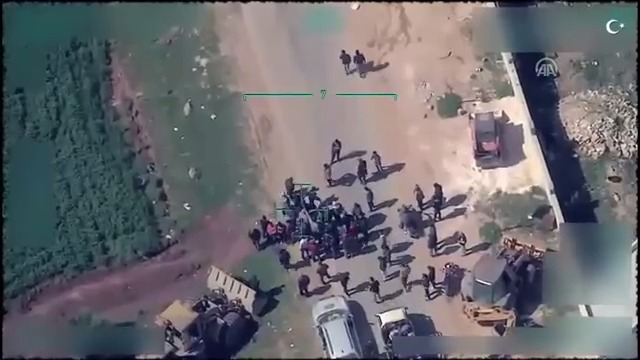arac: (150, 252, 275, 360), (461, 220, 557, 333), (306, 288, 368, 360), (465, 101, 516, 170)
insan: (426, 260, 446, 299), (274, 241, 296, 275), (396, 258, 414, 295), (415, 269, 434, 300), (326, 135, 346, 164), (354, 44, 372, 74), (336, 46, 354, 76), (353, 152, 370, 183), (413, 179, 428, 213), (368, 144, 386, 172), (295, 270, 311, 300), (369, 269, 383, 302), (364, 180, 375, 216)
